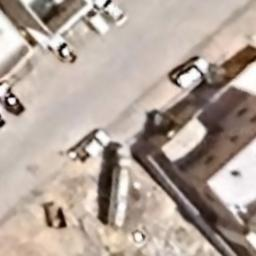SUV: (174, 58, 210, 88)
sedan: (94, 0, 130, 26)
truck: (110, 148, 132, 230)
unknown: (67, 128, 112, 163), (46, 35, 78, 63), (0, 82, 26, 116), (85, 11, 111, 37)
